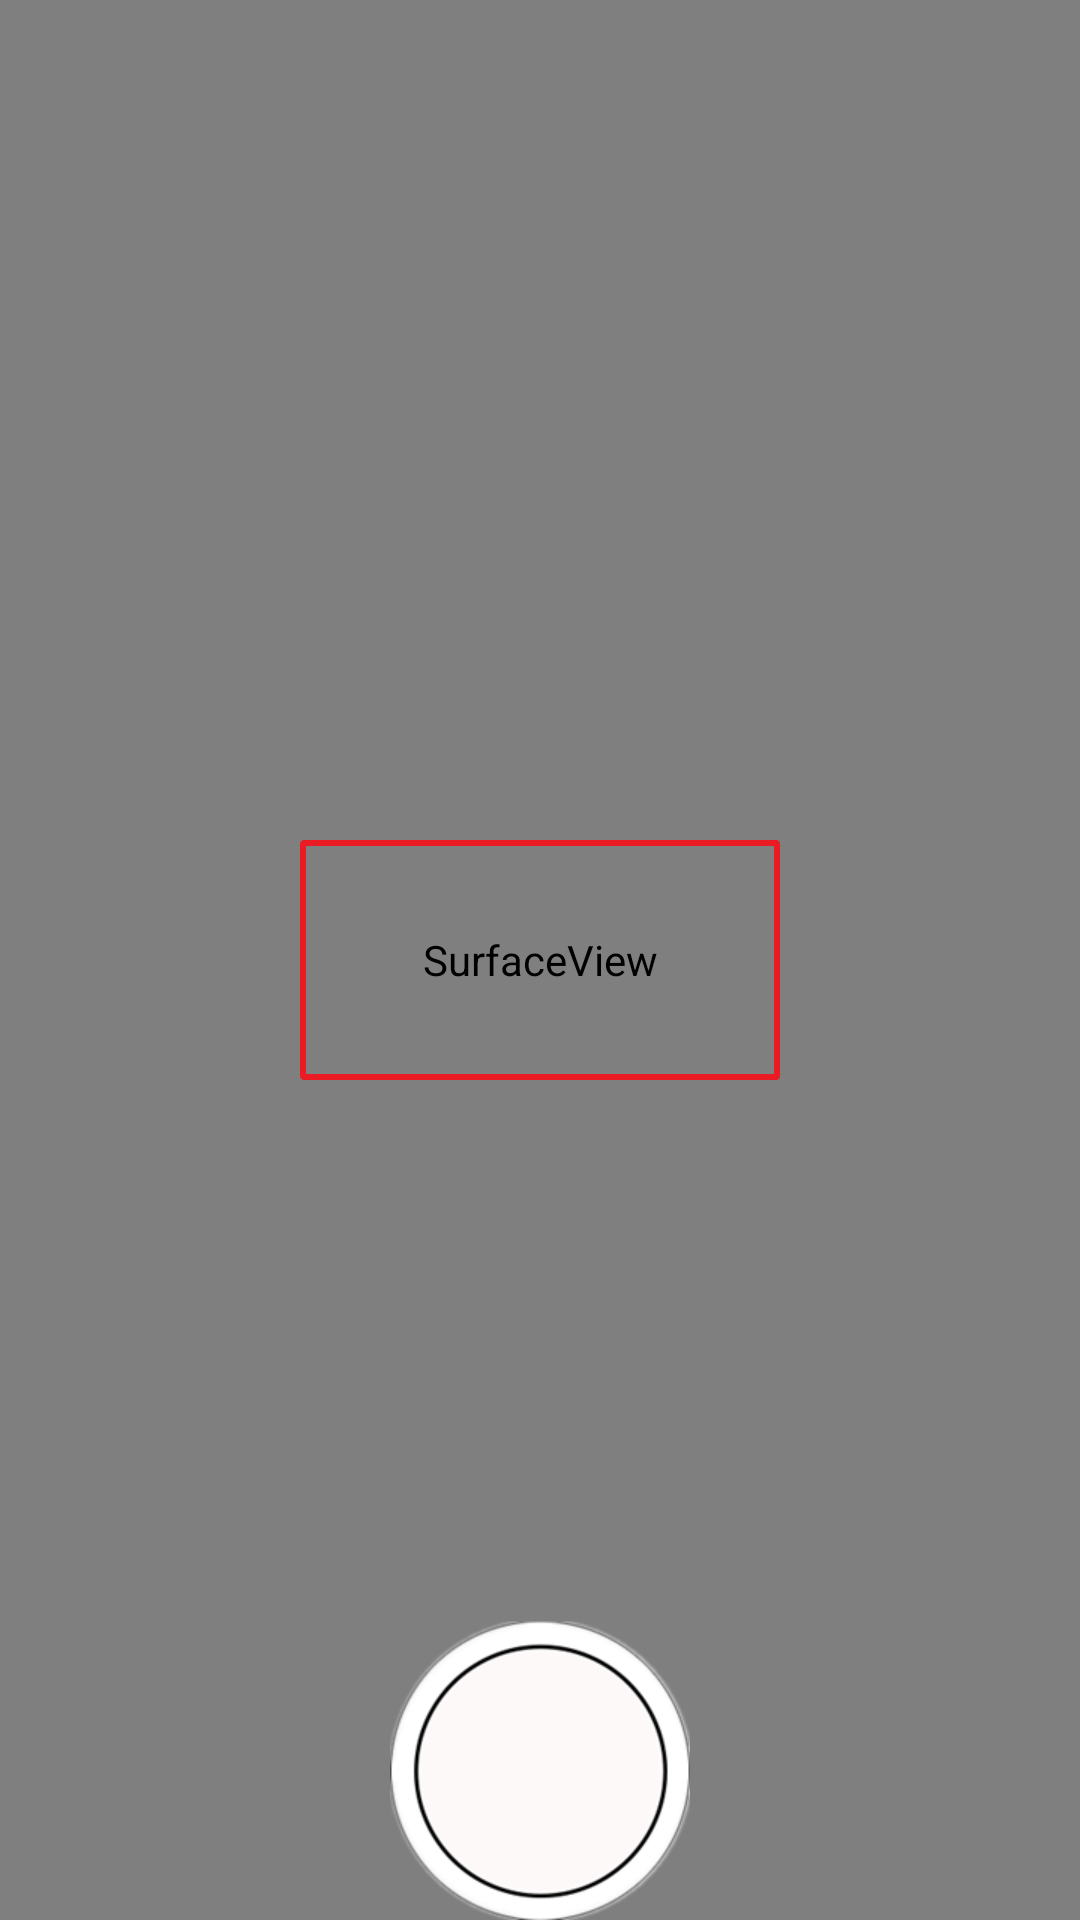

Locate icon controls on the screen. Image size 1080 × 1920, boxes as (x1, y1, x2, y2).
take picture: (390, 1621, 690, 1920)
